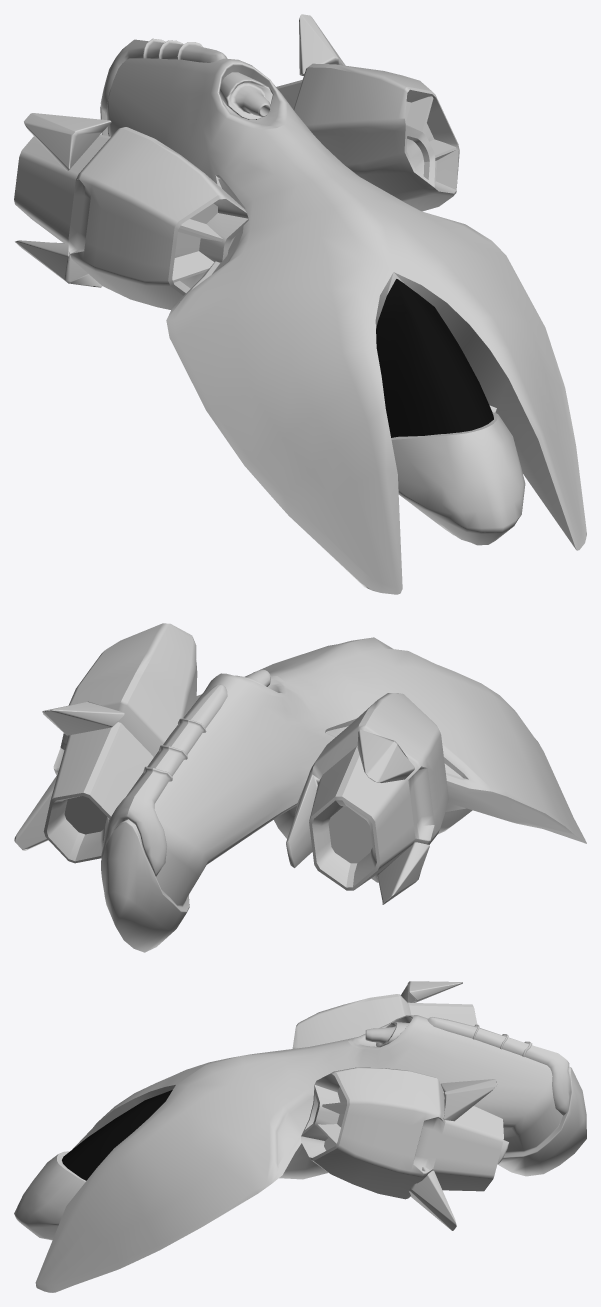
The model's file is evmortsf.fbx.
3 renders of one model, top to bottom at view 1: azimuth 30°, elevation 25°; view 2: azimuth 150°, elevation 25°; view 3: azimuth 270°, elevation 25°, orthographic. The views are drawn at different scales.
Parts seen in each view (by area): view 1: mainbody, eng_r, eng_l, cockpit, flip3, low_merged_pipe, recoil_01, flip4, flip1, vents_r, vents_l; view 2: mainbody, eng_l, eng_r, low_merged_pipe, flip3, flip1, flip4, flip2; view 3: mainbody, eng_l, eng_r, cockpit, low_merged_pipe, flip1, flip2, flip3, recoil_01, vents_l.
Part boxes in pixels (bbox=[...]): mainbody: bbox=[100, 58, 586, 594]; eng_r: bbox=[14, 127, 248, 309]; eng_l: bbox=[276, 63, 459, 211]; cockpit: bbox=[376, 279, 493, 437]; flip3: bbox=[24, 113, 111, 170]; low_merged_pipe: bbox=[100, 38, 226, 115]; recoil_01: bbox=[220, 72, 273, 120]; flip4: bbox=[15, 240, 102, 287]; flip1: bbox=[299, 14, 345, 75]; vents_r: bbox=[172, 219, 222, 282]; vents_l: bbox=[405, 96, 456, 160]; mainbody: bbox=[101, 637, 586, 952]; eng_l: bbox=[43, 623, 197, 863]; eng_r: bbox=[286, 693, 448, 890]; low_merged_pipe: bbox=[101, 684, 227, 876]; flip3: bbox=[357, 729, 414, 782]; flip1: bbox=[42, 701, 124, 735]; flip4: bbox=[377, 842, 429, 904]; flip2: bbox=[14, 774, 57, 850]; mainbody: bbox=[14, 1015, 586, 1292]; eng_l: bbox=[301, 1067, 508, 1199]; eng_r: bbox=[292, 994, 477, 1048]; cockpit: bbox=[62, 1090, 172, 1180]; low_merged_pipe: bbox=[427, 1017, 570, 1115]; flip1: bbox=[440, 1079, 497, 1121]; flip2: bbox=[408, 1166, 456, 1230]; flip3: bbox=[401, 981, 462, 1002]; recoil_01: bbox=[365, 1022, 409, 1047]; vents_l: bbox=[317, 1102, 346, 1144].
Bounding box in the file's own units: 3.02 × 2.47 × 5.35.
